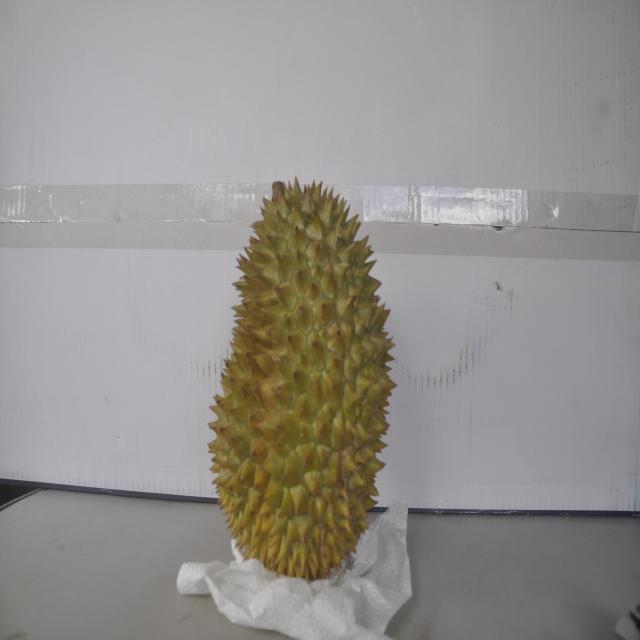mature: (207, 178, 397, 578)
